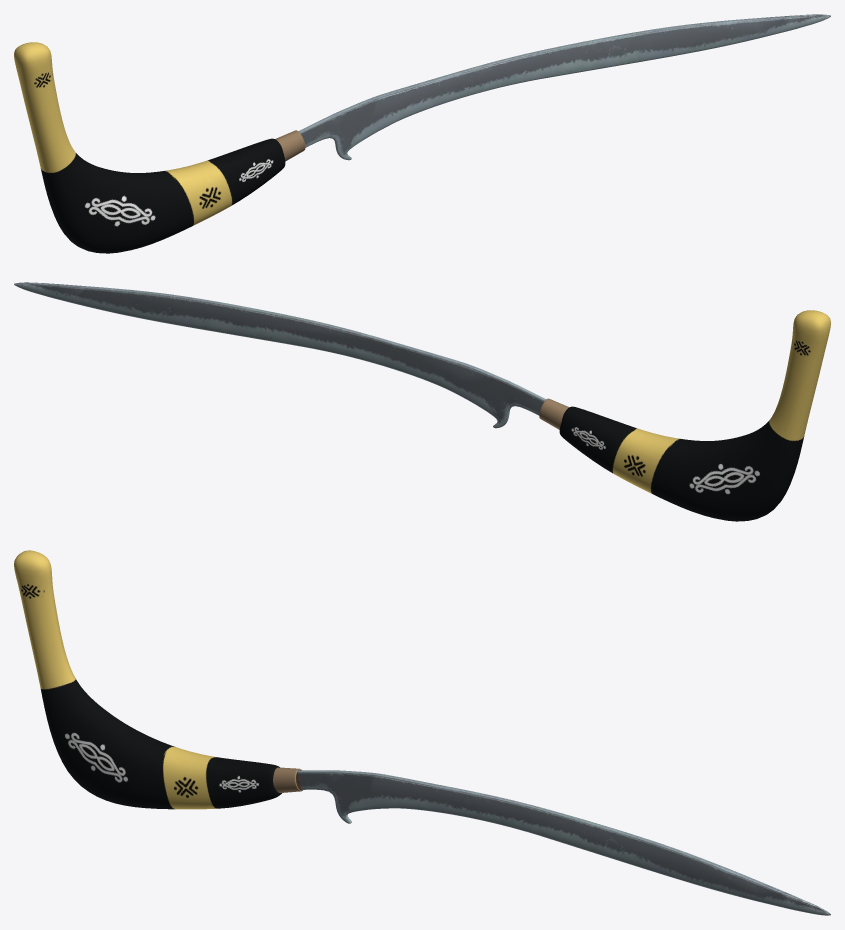
File: rencong.glb
3 renders of one model, top to bottom at view 1: azimuth 30°, elevation 25°; view 2: azimuth 150°, elevation 25°; view 3: azimuth 330°, elevation 25°, orthographic.
Parts seen in each view (by area): view 1: Plane; view 2: Plane; view 3: Plane.
Part boxes in pixels (x1,y1,x2,y2): Plane: [14, 14, 830, 253]; Plane: [14, 282, 830, 521]; Plane: [14, 550, 830, 915].
Bounding box in the file's own units: 6.5 × 1.73 × 0.3861.
4 materials, 4 textured.
